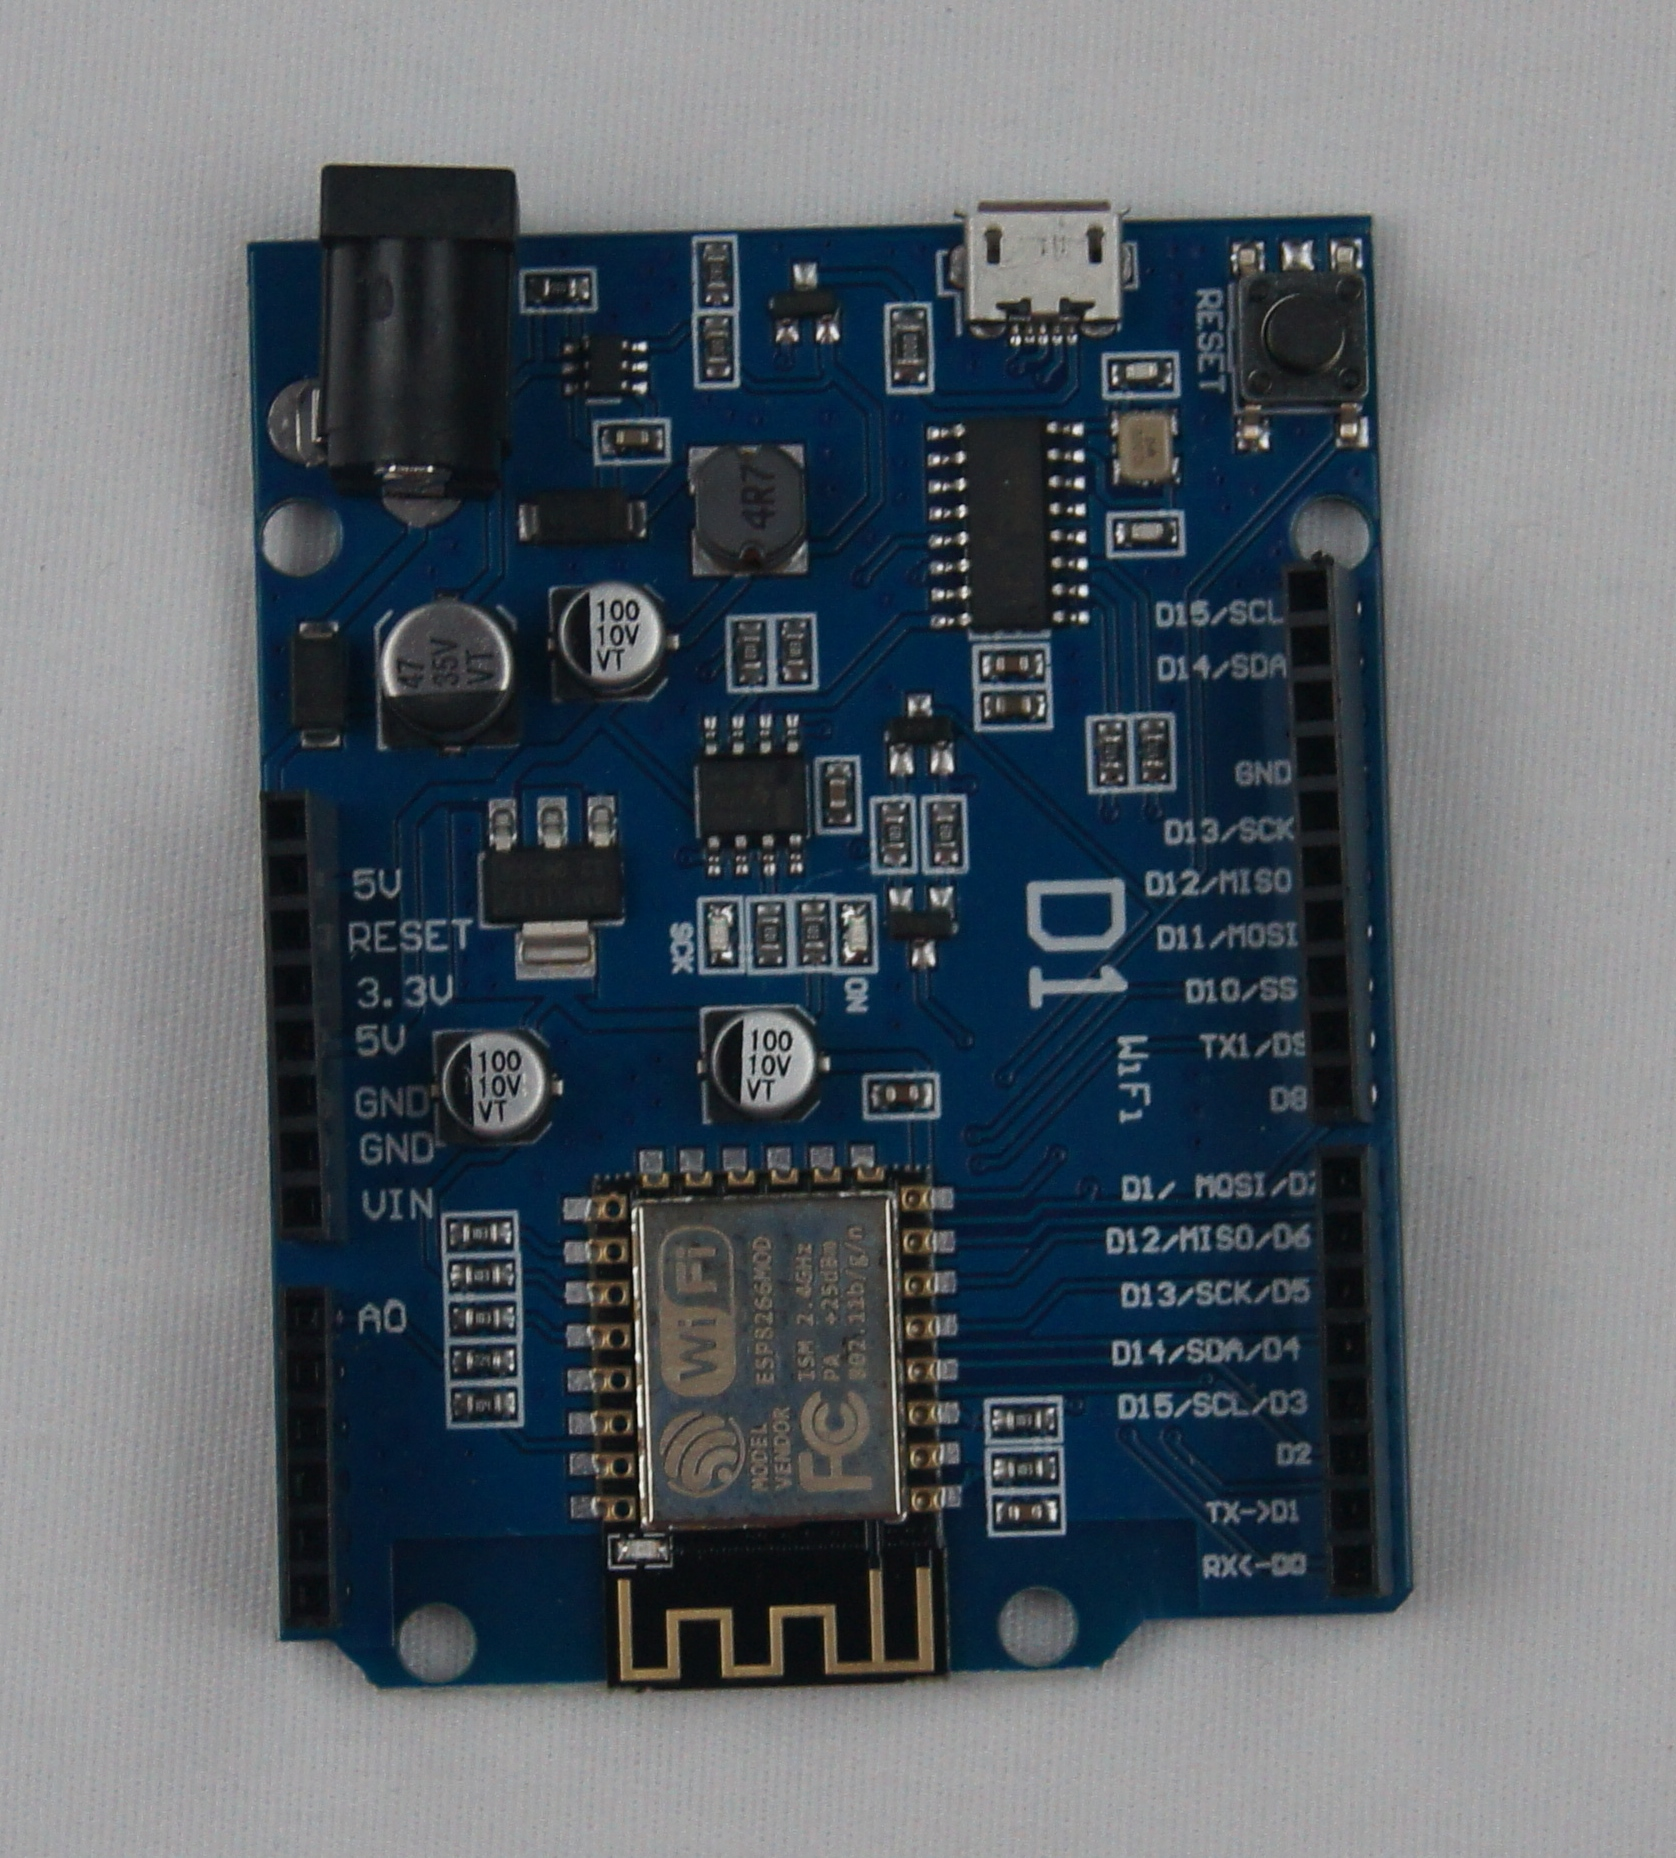resistor: (891, 304, 929, 388), (730, 616, 772, 686), (992, 1400, 1063, 1441), (984, 1454, 1063, 1488), (445, 1216, 516, 1253), (875, 797, 912, 868), (794, 897, 832, 967), (778, 614, 814, 686), (448, 1258, 518, 1294), (448, 1387, 521, 1421), (450, 1344, 518, 1379), (697, 239, 733, 307), (697, 314, 733, 382), (448, 1302, 518, 1336), (929, 799, 963, 868), (752, 901, 785, 970)
